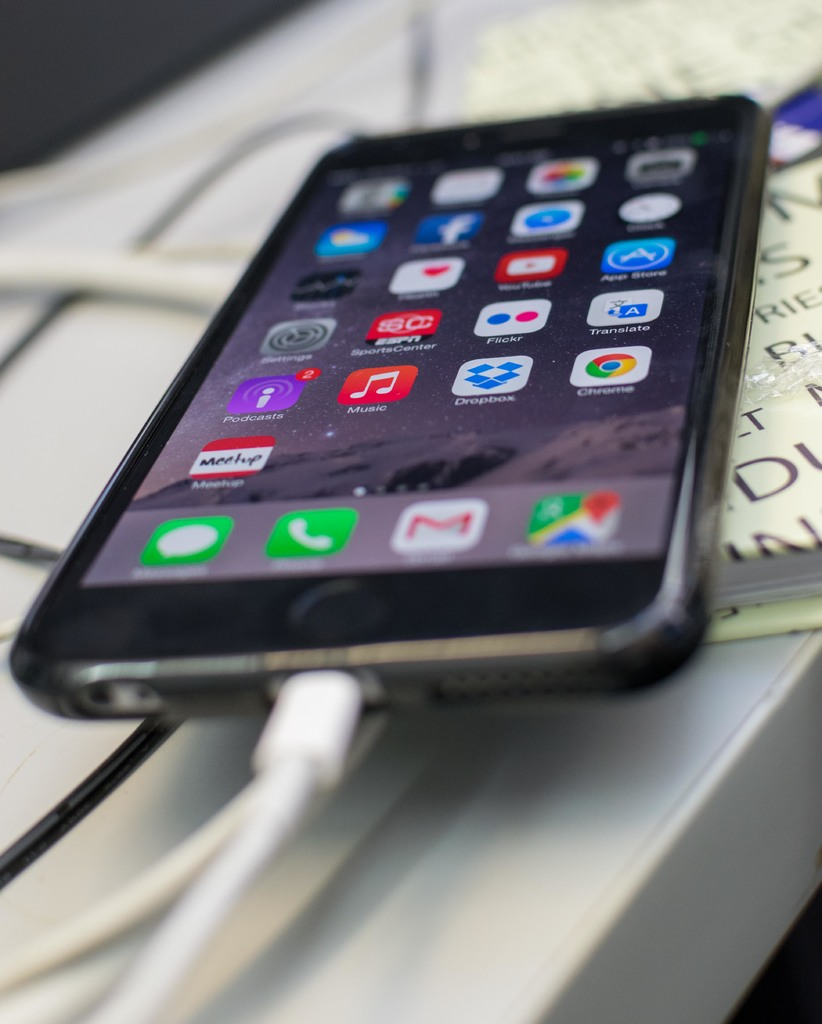Mobile-phone: (9, 99, 774, 709)
